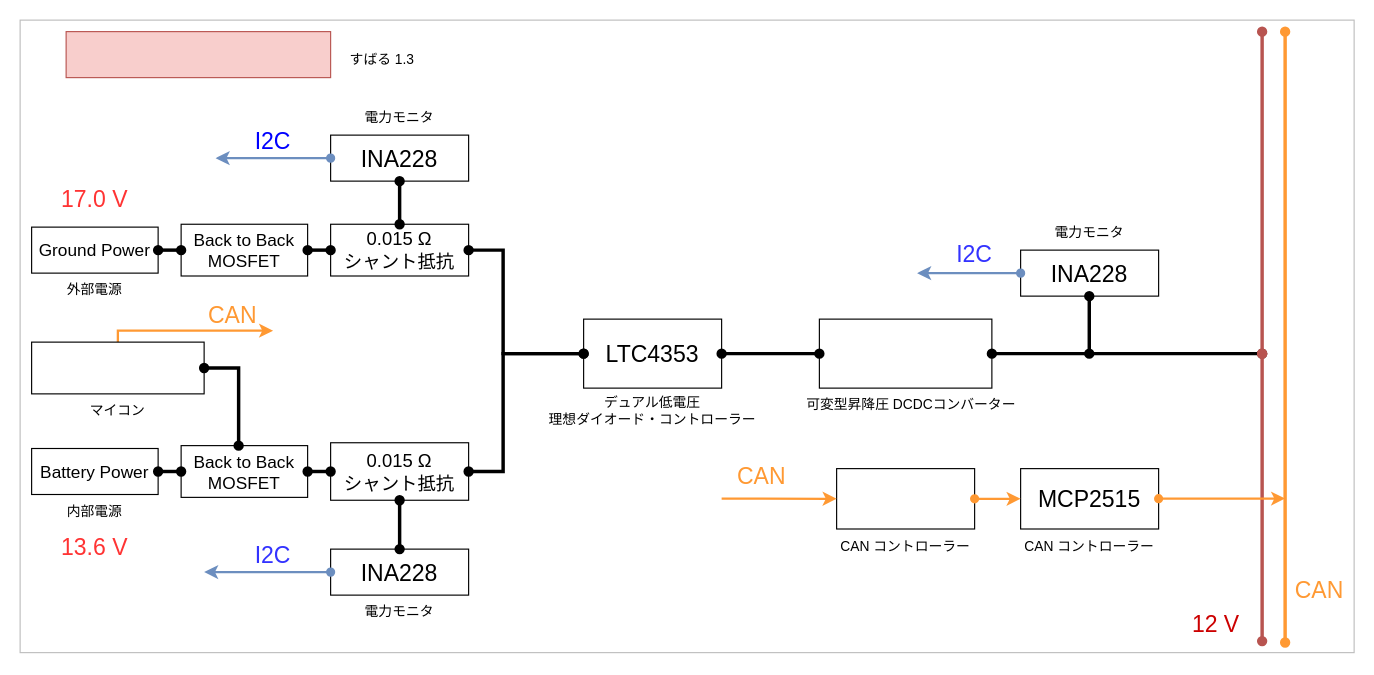
Some shapes in this 1374 by 675 pixel diagram are drawn without their labels. The centre of each missing label's shape, as x and y in pixels:
"LTC3119" goes at point (905, 353).
"MCP2562" goes at point (905, 498).
"Power Module" goes at point (198, 54).
"Seeed XIAO RP2040 Seeed" goes at point (117, 367).
